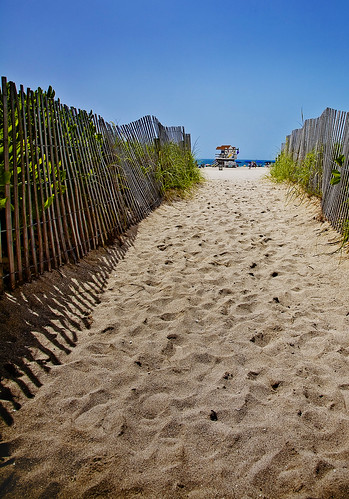beach: (9, 171, 349, 494)
sky: (7, 1, 343, 113)
